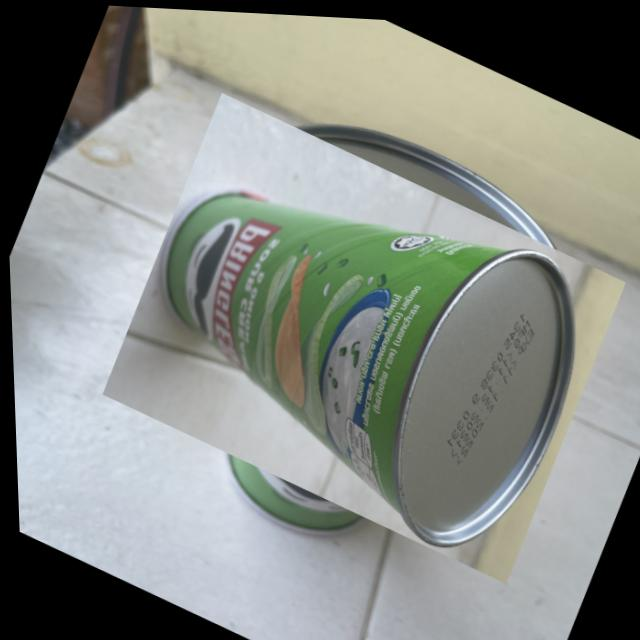a pringles: (101, 71, 620, 596)
